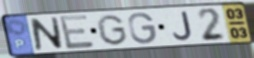2: (196, 7, 228, 43)
E: (57, 13, 97, 51)
G: (95, 13, 130, 47), (126, 11, 158, 45)
J: (171, 10, 194, 42)
N: (29, 16, 65, 52)
